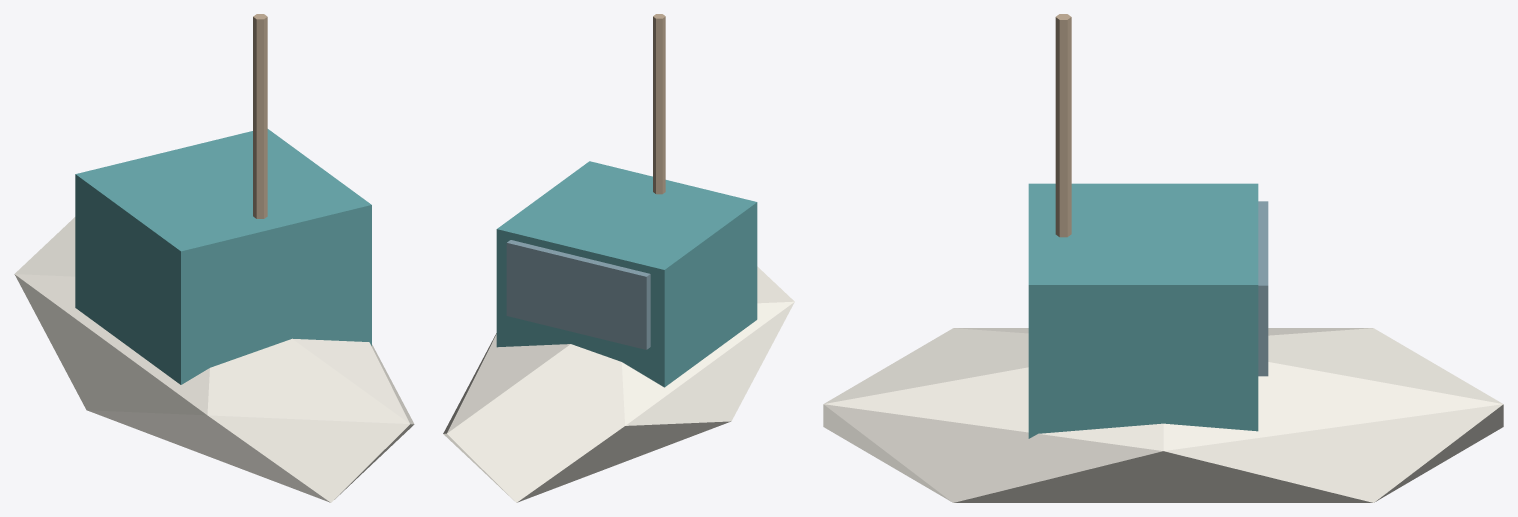
Rendered from fishing_boat.glb.
3 views of the same model, side by side, from view 1: azimuth 30°, elevation 25°; view 2: azimuth 150°, elevation 25°; view 3: azimuth 270°, elevation 25° (orthographic). The views are drawn at different scales.
Visible parts, largest first — view 1: fishing_boat__cabin, fishing_boat__hull, fishing_boat__mast; view 2: fishing_boat__hull, fishing_boat__cabin, fishing_boat__cabin_glass, fishing_boat__mast; view 3: fishing_boat__hull, fishing_boat__cabin, fishing_boat__mast, fishing_boat__cabin_glass.
Part boxes in pixels (x1,y1,x2,y2): fishing_boat__cabin: [75, 129, 371, 384]; fishing_boat__hull: [14, 217, 414, 502]; fishing_boat__mast: [253, 14, 267, 218]; fishing_boat__hull: [443, 266, 794, 502]; fishing_boat__cabin: [496, 161, 757, 387]; fishing_boat__cabin_glass: [506, 240, 650, 349]; fishing_boat__mast: [653, 14, 665, 194]; fishing_boat__hull: [823, 328, 1503, 502]; fishing_boat__cabin: [1028, 183, 1258, 438]; fishing_boat__mast: [1055, 14, 1071, 237]; fishing_boat__cabin_glass: [1258, 201, 1268, 376].
Size of the model in its own units: 3.22 by 5.2 by 6.81.
